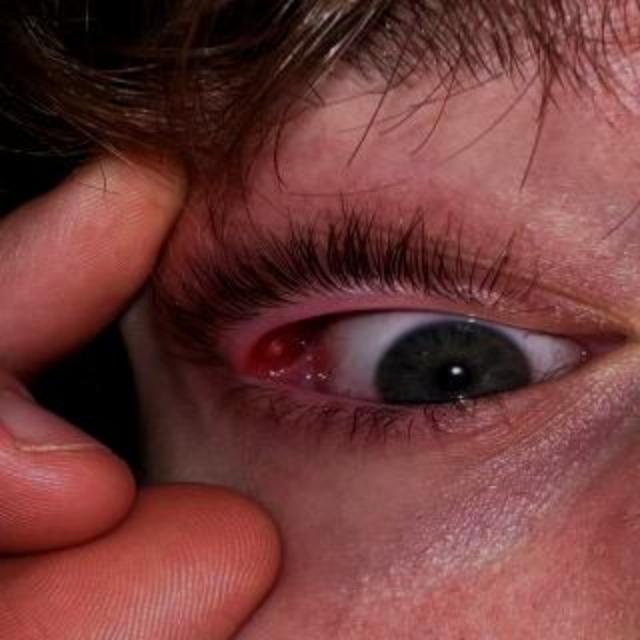Stye: (242, 310, 372, 423)
